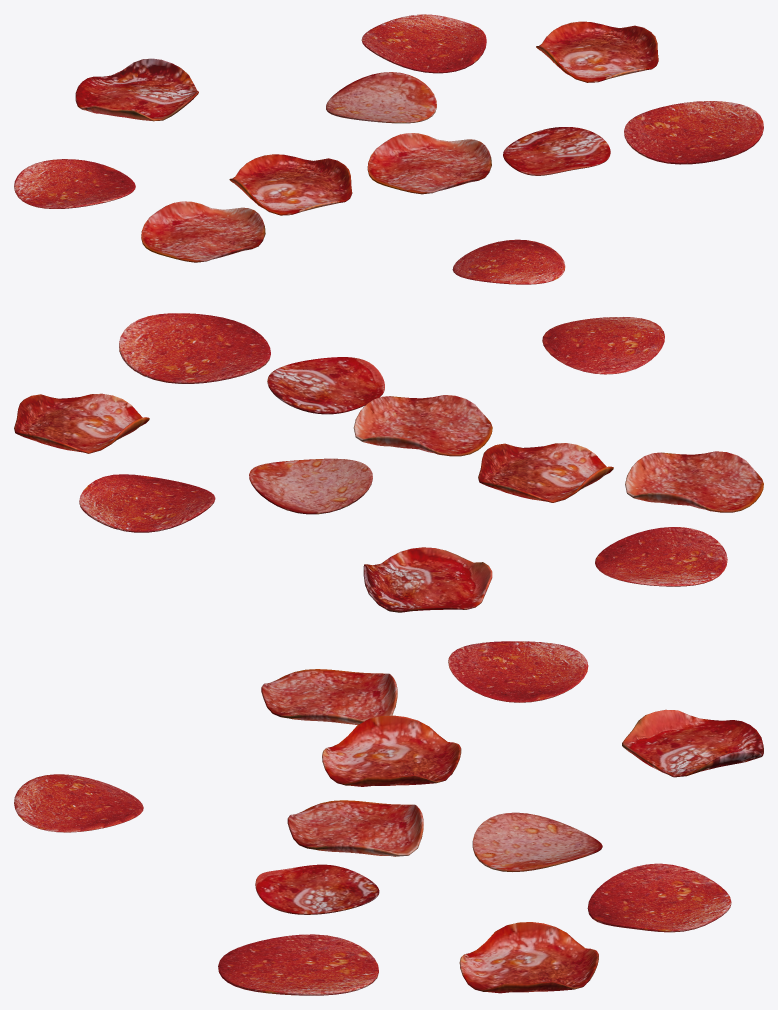
Rendered from shadow_pep.glb.
3 views of the same model, one above another, from view 1: azimuth 30°, elevation 25°; view 2: azimuth 150°, elevation 25°; view 3: azimuth 270°, elevation 25° (orthographic). The views are drawn at different scales.
Parts seen in each view (by area): view 1: Pepperoni04; view 2: Pepperoni04; view 3: Pepperoni04.
Part boxes in pixels (<box>): Pepperoni04: <box>14,14,763,284</box>; Pepperoni04: <box>14,313,763,612</box>; Pepperoni04: <box>14,641,763,995</box>.
Size of the model in its own units: 0.2002 by 0.00722 by 0.1773.
Materials: 1 (1 with a texture image).
